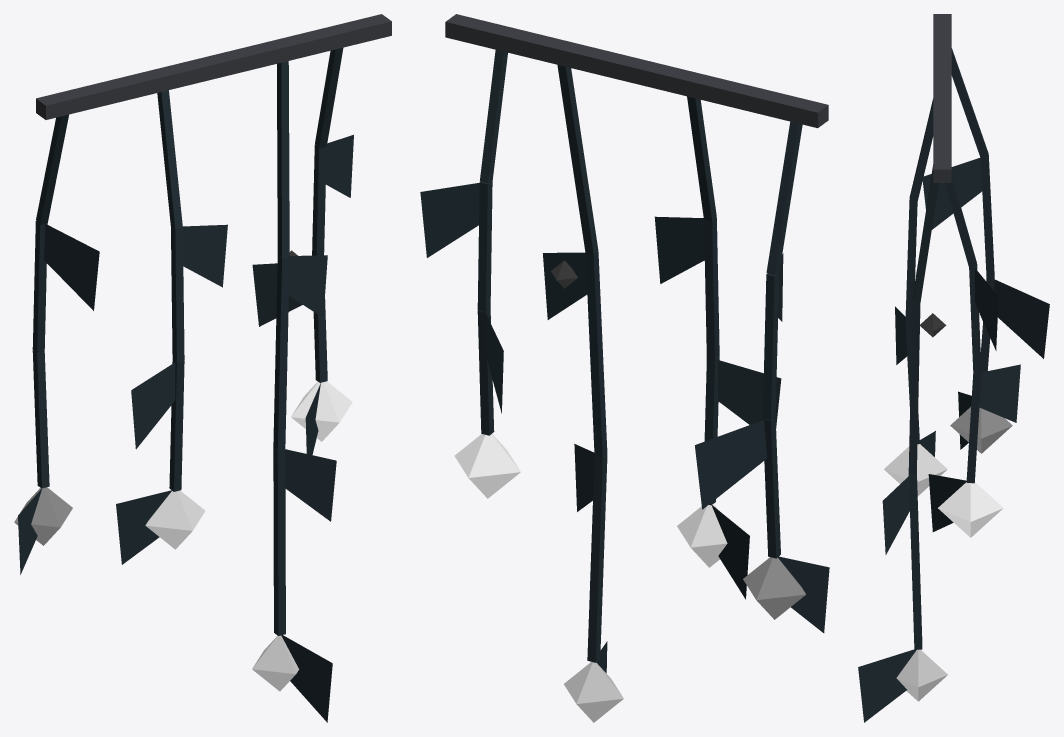
Rendered from vine_curtain_c.glb.
The picture shows the model from 3 angles, left to right: view 1: azimuth 30°, elevation 25°; view 2: azimuth 150°, elevation 25°; view 3: azimuth 270°, elevation 25°; orthographic projection. The views are drawn at different scales.
Parts seen in each view (by area): view 1: vine_curtain_c; view 2: vine_curtain_c; view 3: vine_curtain_c.
Part boxes in pixels (x1,y1,x2,y2): vine_curtain_c: [14, 14, 391, 722]; vine_curtain_c: [420, 14, 829, 722]; vine_curtain_c: [858, 14, 1049, 722].
Size of the model in its own units: 1.04 by 1.79 by 0.5205.
3 materials, 1 textured.
